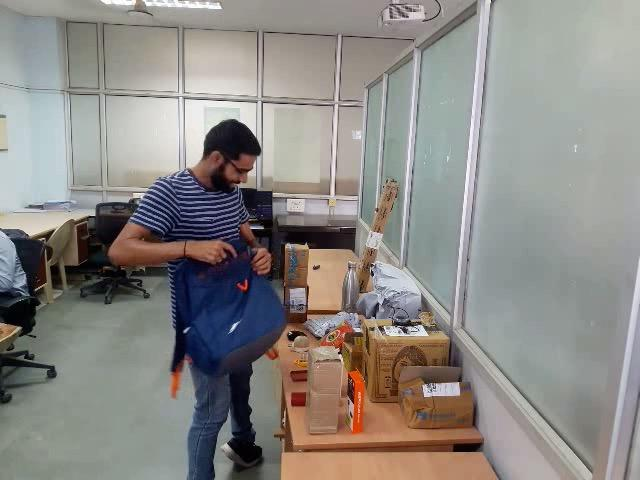shoplifting: (100, 213, 359, 430)
